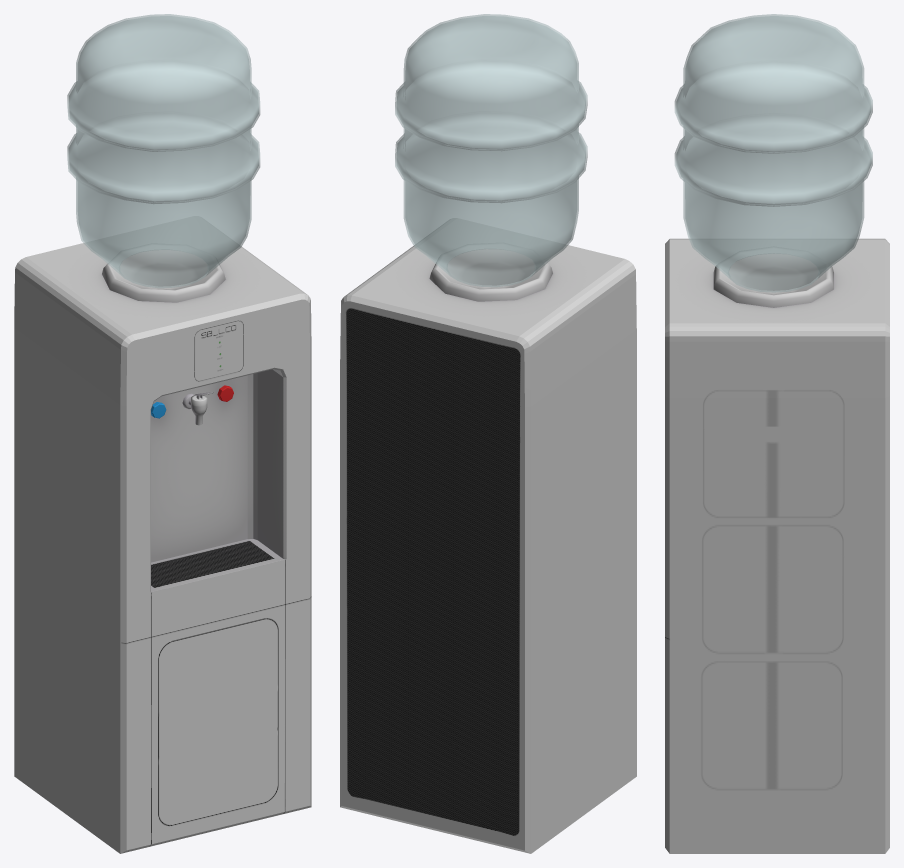
The model's file is Water_Dispenser 1.fbx.
The picture shows the model from 3 angles, left to right: view 1: azimuth 30°, elevation 25°; view 2: azimuth 150°, elevation 25°; view 3: azimuth 270°, elevation 25°; orthographic projection.
Parts seen in each view (by area): view 1: WaterDispenser_Machine, Water_Bottle_Dispenser; view 2: WaterDispenser_Machine, Water_Bottle_Dispenser; view 3: WaterDispenser_Machine, Water_Bottle_Dispenser.
Part boxes in pixels (x1,y1,x2,y2): WaterDispenser_Machine: (14,216,311,853); Water_Bottle_Dispenser: (67,14,260,288); WaterDispenser_Machine: (340,218,636,853); Water_Bottle_Dispenser: (395,14,587,287); WaterDispenser_Machine: (665,238,889,853); Water_Bottle_Dispenser: (674,14,872,292).
Bounding box in the file's own units: 50.96 × 192 × 50.96.
Materials: 2 (1 with a texture image).
